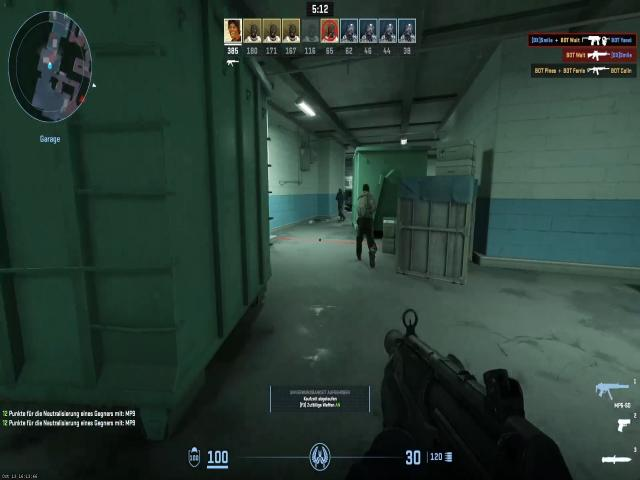T: (354, 180, 377, 224), (360, 182, 373, 196)
